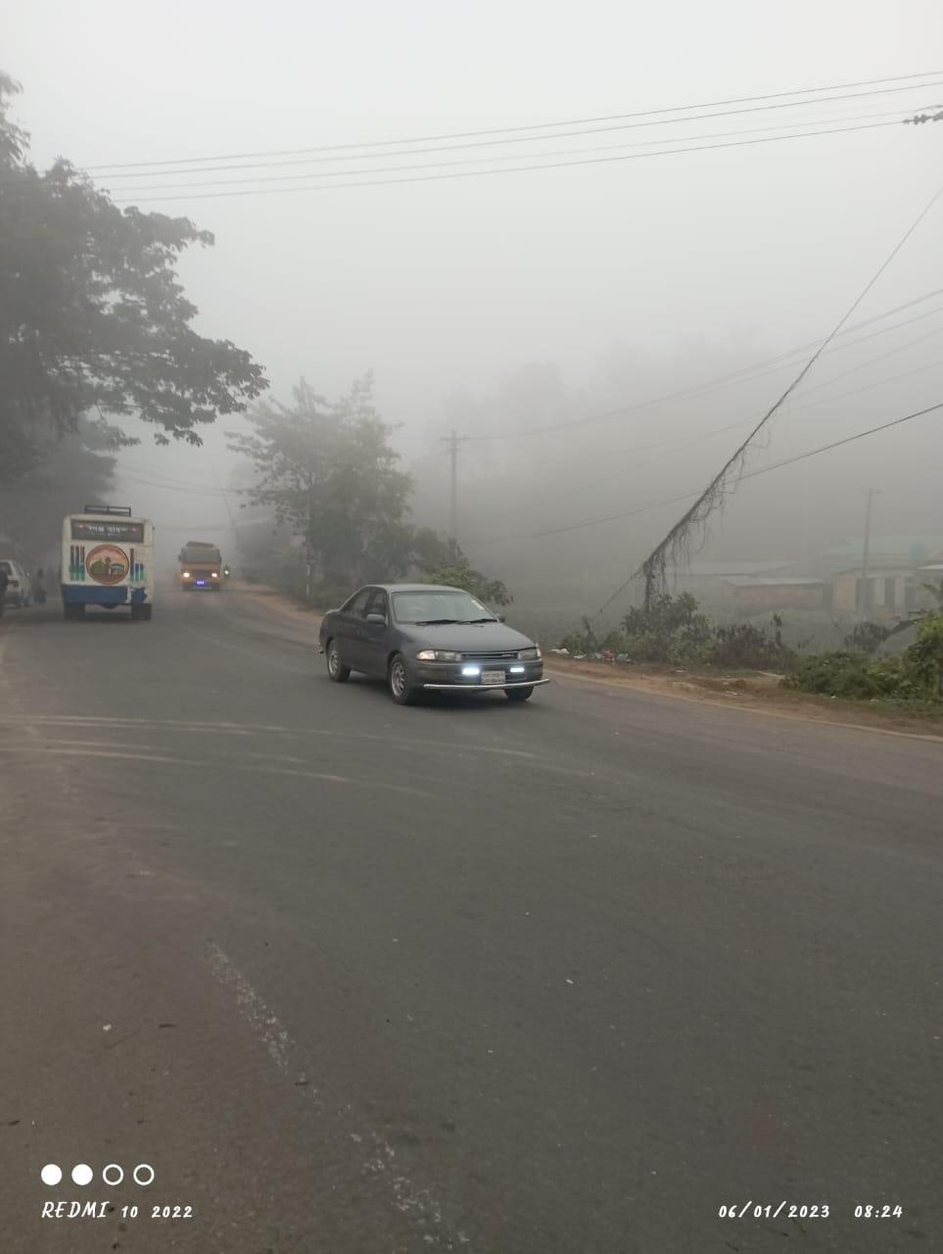Bus: (48, 494, 168, 639)
Car: (311, 572, 549, 716)
Truck: (169, 530, 231, 601)
